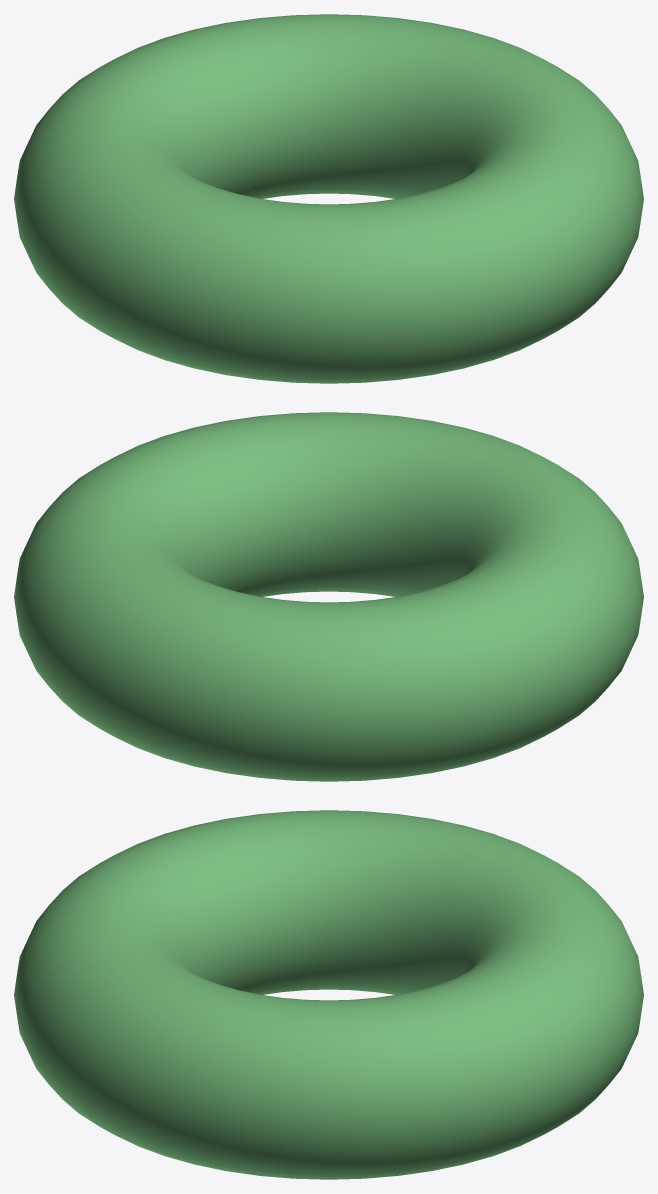
The picture shows the model from 3 angles, top to bottom: view 1: azimuth 30°, elevation 25°; view 2: azimuth 150°, elevation 25°; view 3: azimuth 270°, elevation 25°; orthographic projection.
Size of the model in its own units: 1.26 by 0.36 by 1.26.
